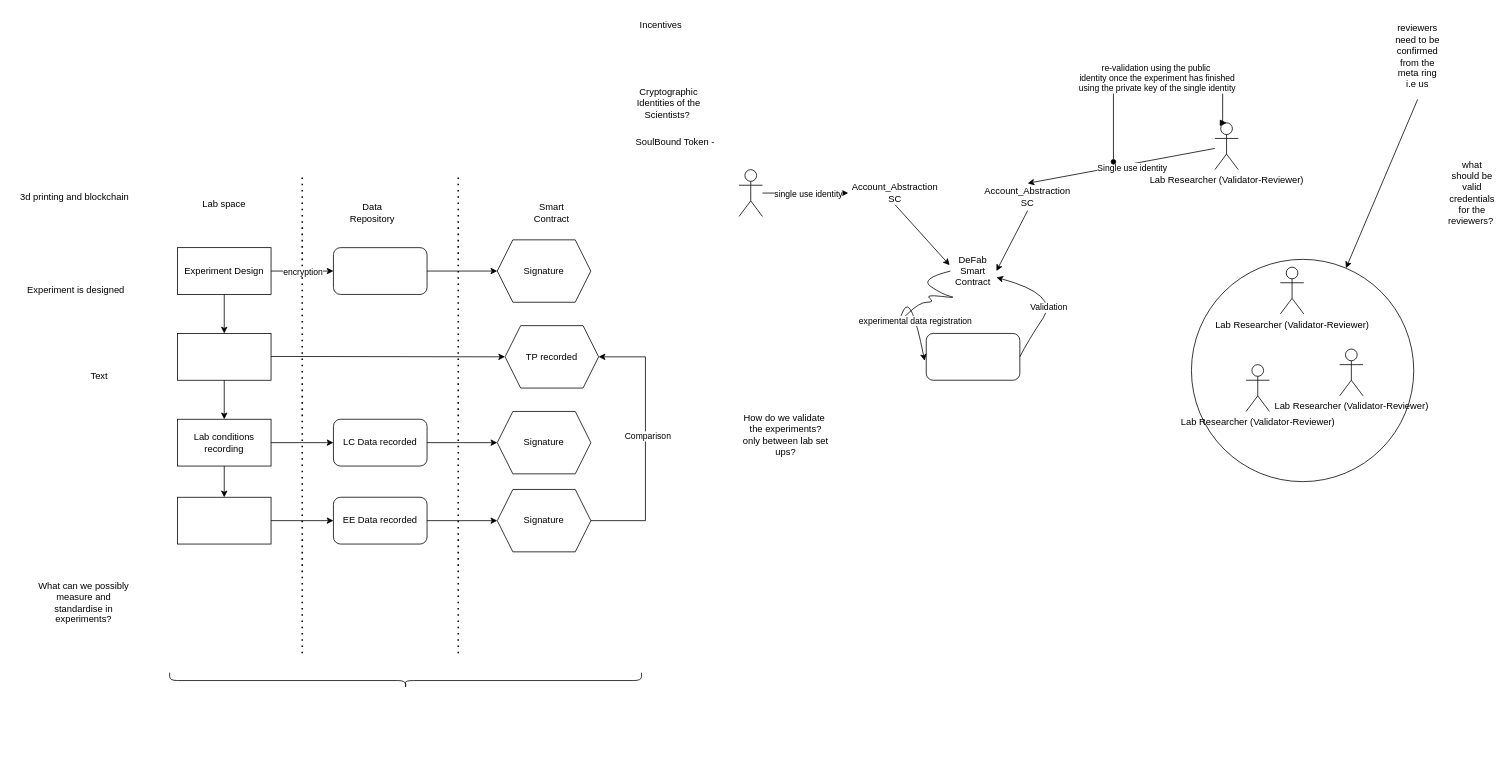
The diagram is 1509 pixels wide and 775 high, and some of its shapes have lost their labels. The shapes that lost their labels are listed below. From the top down, each one's box as (x1, y1, x2, y2) in pixels, then its label:
(738, 169, 762, 216): Lab Researcher (experimeter)
(333, 247, 427, 294): ED Data recorded
(177, 333, 271, 380): Target performance
(925, 333, 1020, 380): experiment lifecycle
(177, 496, 271, 544): Experiment execution
(169, 672, 642, 688): What are we collectively producing and how can we tokenise it?
